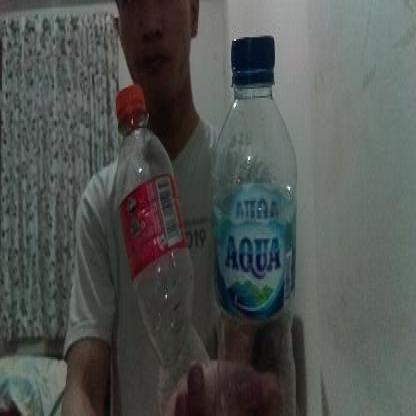plastic_bottles: (110, 89, 212, 416), (214, 37, 302, 416)
